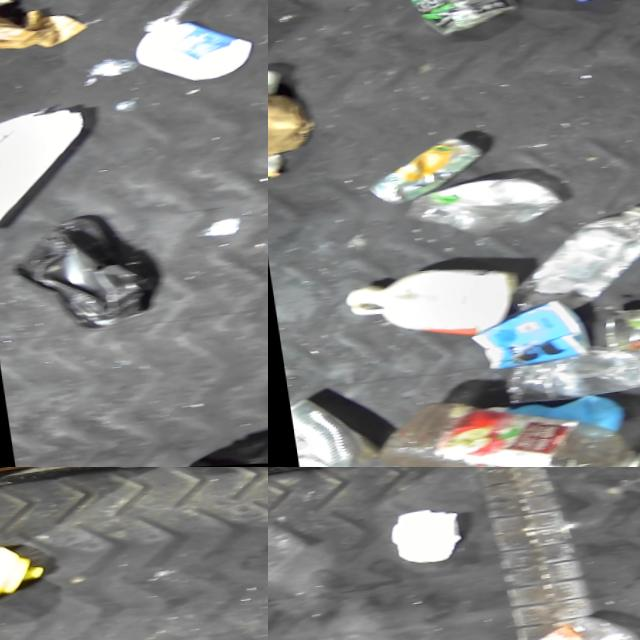can: (358, 132, 489, 209), (283, 387, 381, 467), (593, 296, 640, 360)
milk_jug: (336, 255, 524, 355)
non_white_jug: (0, 539, 49, 627)
plastic_bottle: (360, 370, 640, 467), (493, 201, 640, 320)
